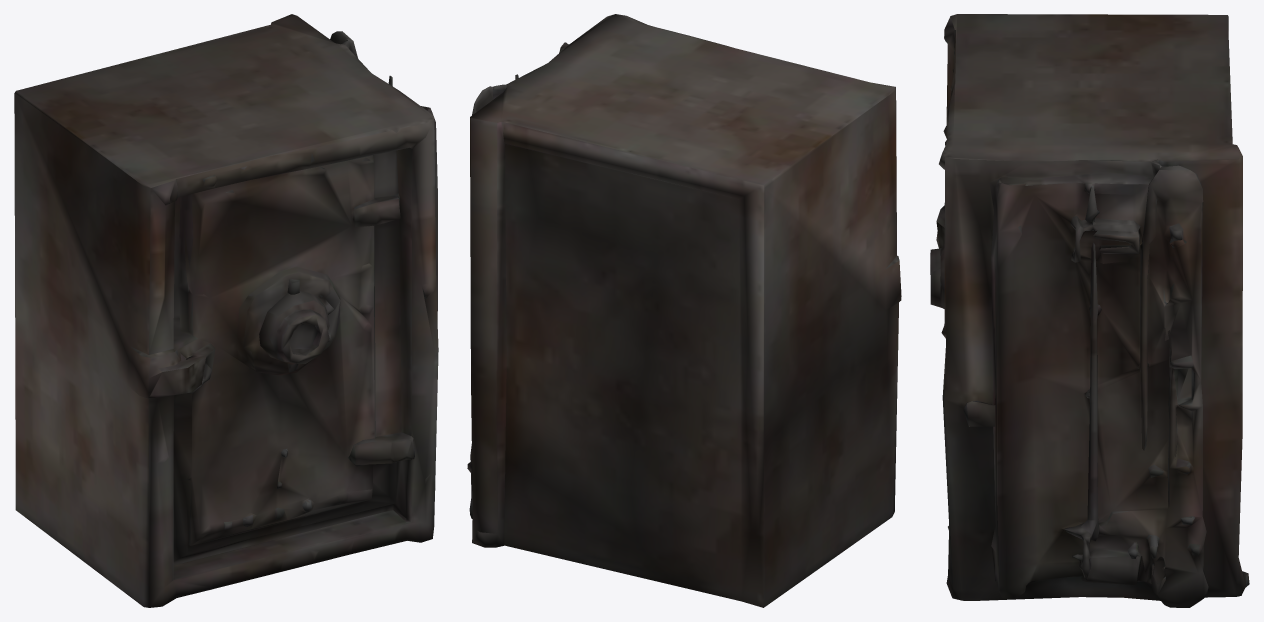
File: worn-iron-cell-door-v003.glb
3 views of the same model, side by side, from view 1: azimuth 30°, elevation 25°; view 2: azimuth 150°, elevation 25°; view 3: azimuth 270°, elevation 25° (orthographic). The views are drawn at different scales.
Visible parts, largest first — view 1: worn-iron-cell-door; view 2: worn-iron-cell-door; view 3: worn-iron-cell-door.
Part boxes in pixels (box(x1,y1,x2,y2)): worn-iron-cell-door: box(14, 14, 438, 607); worn-iron-cell-door: box(467, 14, 901, 607); worn-iron-cell-door: box(930, 14, 1249, 607).
Bounding box in the file's own units: 1.74 × 2.2 × 1.43.
1 material, 1 textured.
